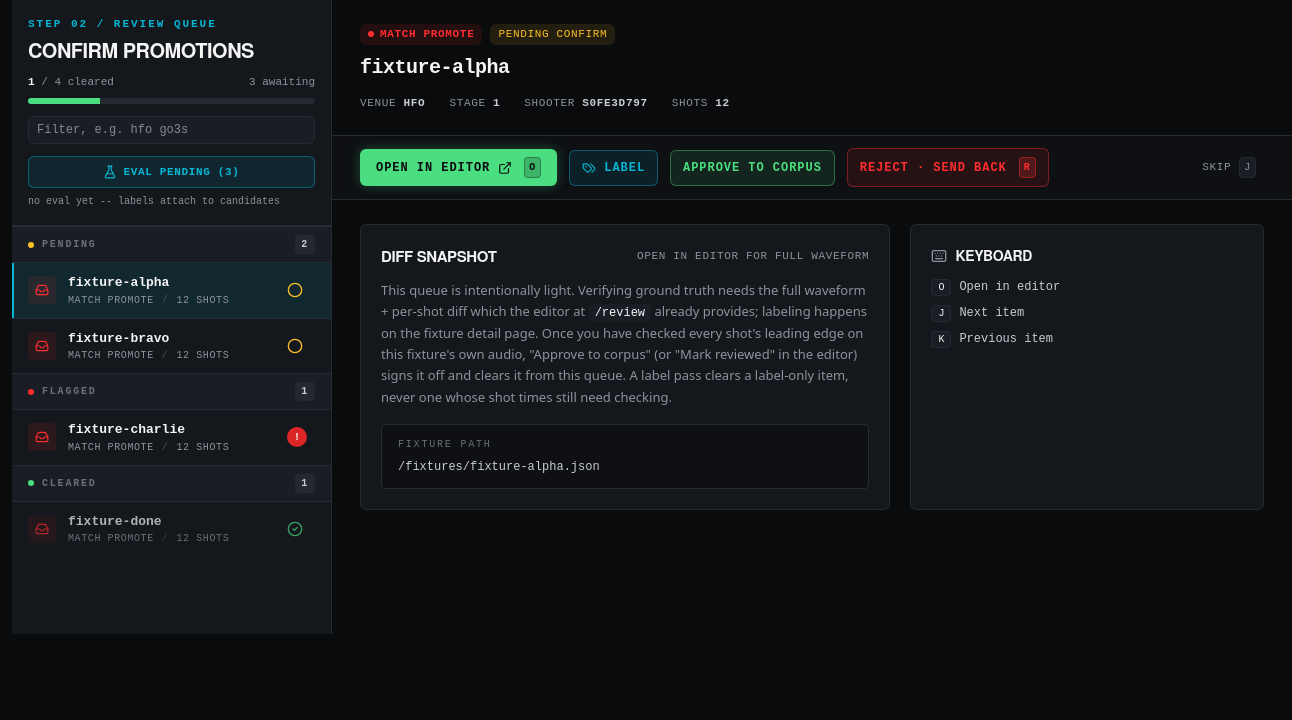
Test case: DevReviewQueue eval-pending rail › scores the pending + flagged set and reports run coverage
Check: the text "no eval yet -- labels attach to candidates" is shown, box [28,194,315,209]
Click the button "Eval pending (3)": (172, 172) [28,156,315,188]
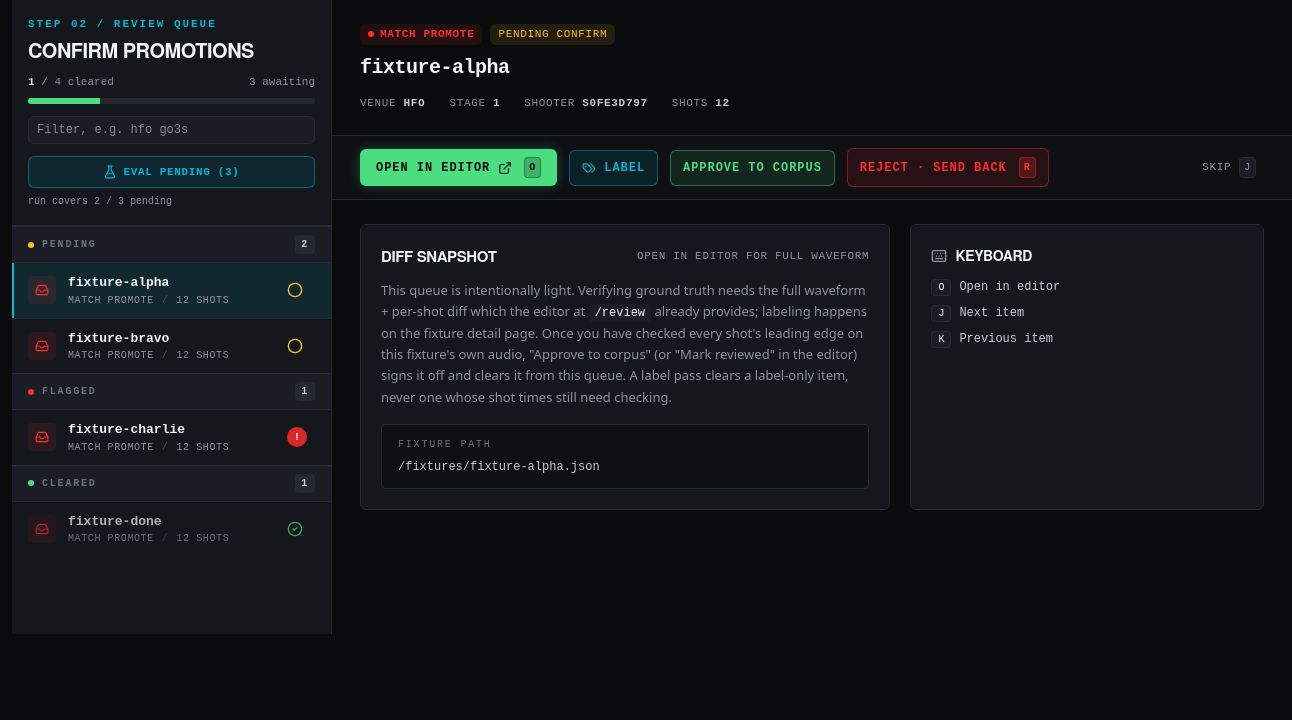
Check: the text "run covers 2 / 3 pending" is shown, box [28,196,172,207]
